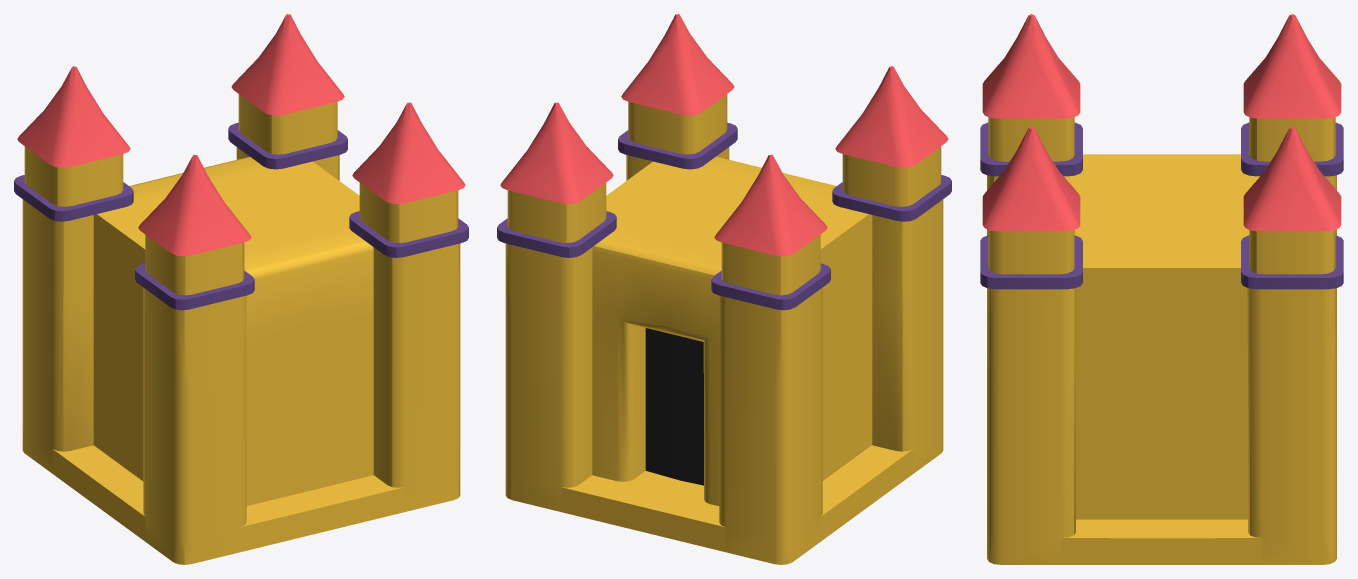
Rendered from castle.fbx.
3 renders of one model, left to right at view 1: azimuth 30°, elevation 25°; view 2: azimuth 150°, elevation 25°; view 3: azimuth 270°, elevation 25°, orthographic. The views are drawn at different scales.
Parts seen in each view (by area): view 1: Castle; view 2: Castle; view 3: Castle.
Boxes of the visible parts, <box> form: Castle: <box>14,14,468,564</box>; Castle: <box>497,14,951,564</box>; Castle: <box>980,14,1343,564</box>.
Size of the model in its own units: 28.92 by 36.12 by 28.45.
Materials: 2 (1 with a texture image).
